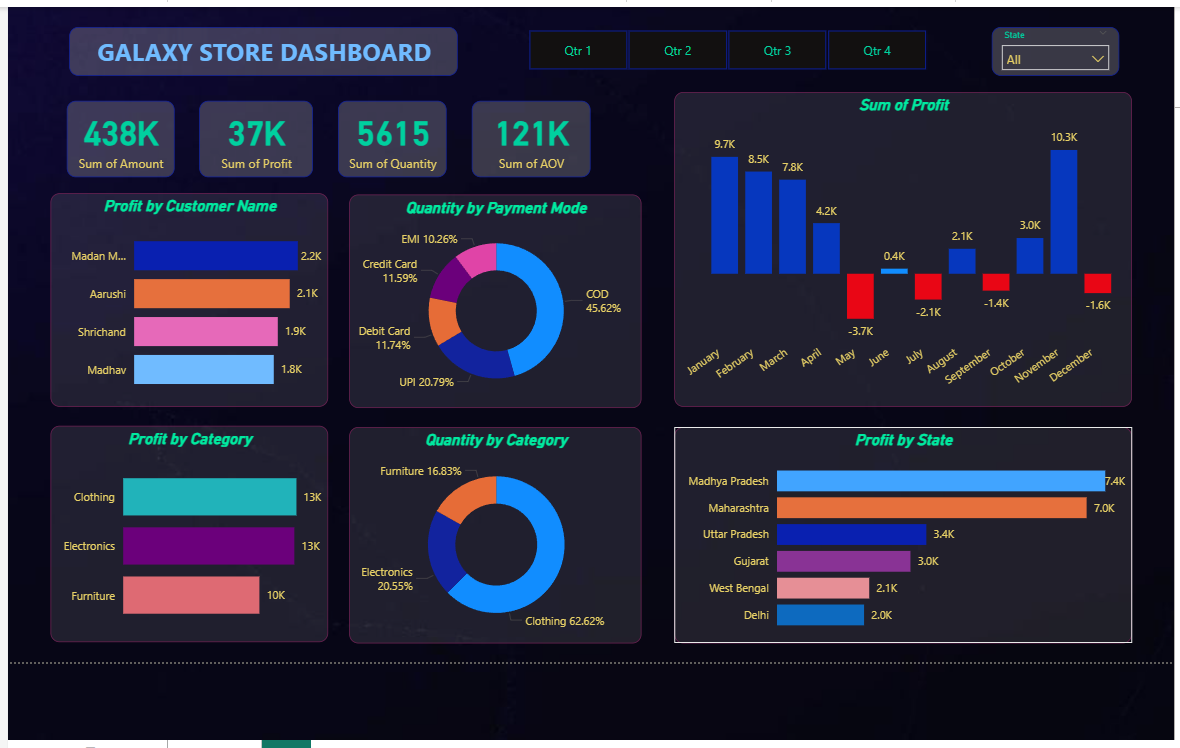

What the dashboard file says about the page in this screenshot:
{"tool":"powerbi","page":{"name":"Page 1","canvas":[1280,720],"ordinal":0},"visuals":[{"type":"textbox","box":[67.2,22,426.8,53.5],"z":0},{"type":"clusteredColumnChart","title":"Sum of Profit ","fields":{"Category":["Orders.Order Date.Variation.Date Hierarchy.Month"],"Y":["Sum(Details.Profit)"]},"box":[731.4,93.3,502.2,345.8],"z":1000},{"type":"donutChart","title":"Quantity by Payment Mode","fields":{"Category":["Details.PaymentMode"],"Y":["Sum(Details.Quantity)"]},"box":[374.6,205.8,321.1,234.6],"z":2000},{"type":"clusteredBarChart","title":"Profit by Category","fields":{"Category":["Details.Category"],"Y":["Sum(Details.Profit)"]},"box":[46.7,459.7,304.6,237.4],"z":3000},{"type":"clusteredBarChart","title":"Profit by State","fields":{"Category":["Orders.State"],"Y":["Sum(Details.Profit)"]},"box":[731.4,461.1,502.2,237.4],"z":4000},{"type":"donutChart","title":"Quantity by Category","fields":{"Category":["Details.Category"],"Y":["Sum(Details.Quantity)"]},"box":[374.6,461.1,321.1,237.4],"z":5000},{"type":"barChart","title":"Profit by Customer Name","fields":{"Category":["Orders.CustomerName"],"Y":["Sum(Details.Profit)"]},"box":[46.7,204.5,304.6,234.6],"z":6000},{"type":"card","fields":{"Values":["Sum(Details.Amount)"]},"box":[64.5,102.9,118,83.7],"z":7000},{"type":"card","fields":{"Values":["Sum(Details.Profit)"]},"box":[209.9,102.9,124.9,83.7],"z":8000},{"type":"card","fields":{"Values":["Sum(Details.Quantity)"]},"box":[362.3,102.9,119.4,83.7],"z":9000},{"type":"card","fields":{"Values":["Sum(Details.AOV)"]},"box":[509.1,102.9,130.4,83.7],"z":10000},{"type":"slicer","fields":{"Values":["Orders.Order Date.Variation.Date Hierarchy.Quarter"]},"box":[546.1,22,485.8,53.5],"z":11000},{"type":"slicer","fields":{"Values":["Orders.State"]},"box":[1079.9,22,140,53.5],"z":12000}]}

Visuals, with their boxes on the page's 1280x720 design canvas (x1, y1, x2, y2). These are canvas units, not pixel positions in the 1180x748 screenshot, which may show the page scaled, cropped or inside an application window:
textbox: [67,22,494,76]
"Sum of Profit " clusteredColumnChart: [731,93,1234,439]
"Quantity by Payment Mode" donutChart: [375,206,696,440]
"Profit by Category" clusteredBarChart: [47,460,351,697]
"Profit by State" clusteredBarChart: [731,461,1234,698]
"Quantity by Category" donutChart: [375,461,696,698]
"Profit by Customer Name" barChart: [47,204,351,439]
card - Sum(Details.Amount): [64,103,182,187]
card - Sum(Details.Profit): [210,103,335,187]
card - Sum(Details.Quantity): [362,103,482,187]
card - Sum(Details.AOV): [509,103,640,187]
slicer - Orders.Order Date.Variation.Date Hierarchy.Quarter: [546,22,1032,76]
slicer - Orders.State: [1080,22,1220,76]
